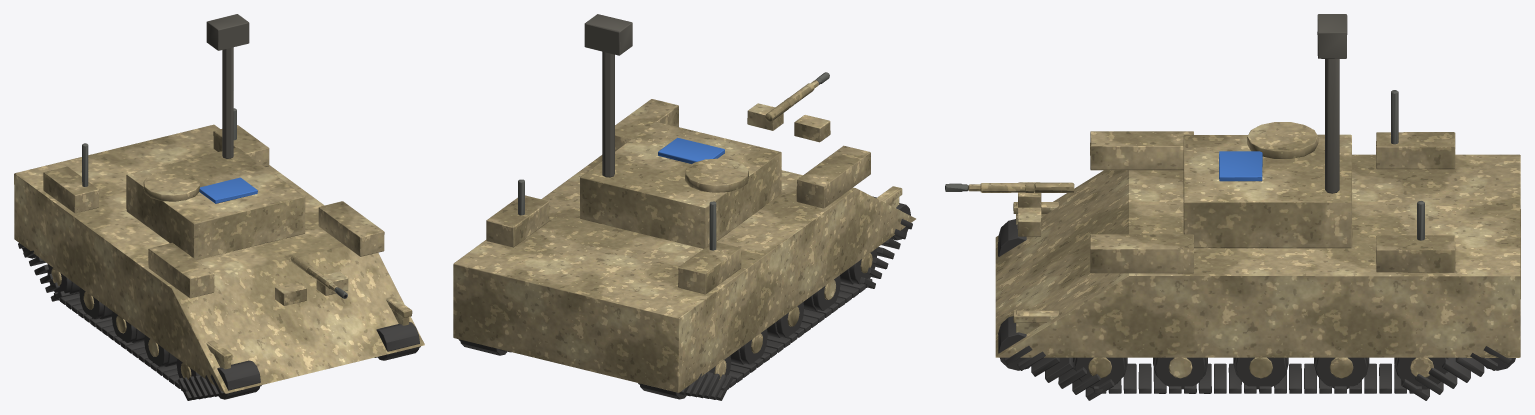
Rendered from rec_e4_us_recon_LOD1.glb.
3 renders of one model, left to right at view 1: azimuth 30°, elevation 25°; view 2: azimuth 150°, elevation 25°; view 3: azimuth 270°, elevation 25°, orthographic. The views are drawn at different scales.
Parts seen in each view (by area): view 1: rec_e4_us_recon_LOD1_body, rec_e4_us_recon_LOD1_track, rec_e4_us_recon_LOD1_deck, rec_e4_us_recon_LOD1_team, rec_e4_us_recon_LOD1_gun; view 2: rec_e4_us_recon_LOD1_body, rec_e4_us_recon_LOD1_track, rec_e4_us_recon_LOD1_deck, rec_e4_us_recon_LOD1_team, rec_e4_us_recon_LOD1_gun; view 3: rec_e4_us_recon_LOD1_body, rec_e4_us_recon_LOD1_track, rec_e4_us_recon_LOD1_deck, rec_e4_us_recon_LOD1_team, rec_e4_us_recon_LOD1_gun.
Part boxes in pixels (bbox=[...]): rec_e4_us_recon_LOD1_body: bbox=[14, 124, 424, 393]; rec_e4_us_recon_LOD1_track: bbox=[18, 243, 420, 400]; rec_e4_us_recon_LOD1_deck: bbox=[206, 14, 249, 158]; rec_e4_us_recon_LOD1_team: bbox=[199, 177, 257, 203]; rec_e4_us_recon_LOD1_gun: bbox=[82, 108, 347, 298]; rec_e4_us_recon_LOD1_body: bbox=[453, 80, 915, 392]; rec_e4_us_recon_LOD1_track: bbox=[458, 196, 912, 400]; rec_e4_us_recon_LOD1_deck: bbox=[584, 14, 632, 177]; rec_e4_us_recon_LOD1_team: bbox=[658, 137, 724, 163]; rec_e4_us_recon_LOD1_gun: bbox=[518, 72, 829, 250]; rec_e4_us_recon_LOD1_body: bbox=[968, 122, 1520, 378]; rec_e4_us_recon_LOD1_track: bbox=[998, 219, 1515, 400]; rec_e4_us_recon_LOD1_deck: bbox=[1317, 14, 1347, 193]; rec_e4_us_recon_LOD1_team: bbox=[1219, 151, 1262, 181]; rec_e4_us_recon_LOD1_gun: bbox=[945, 90, 1424, 240].
Size of the model in its own units: 2.9 by 3.79 by 5.8.
6 materials, 1 textured.
